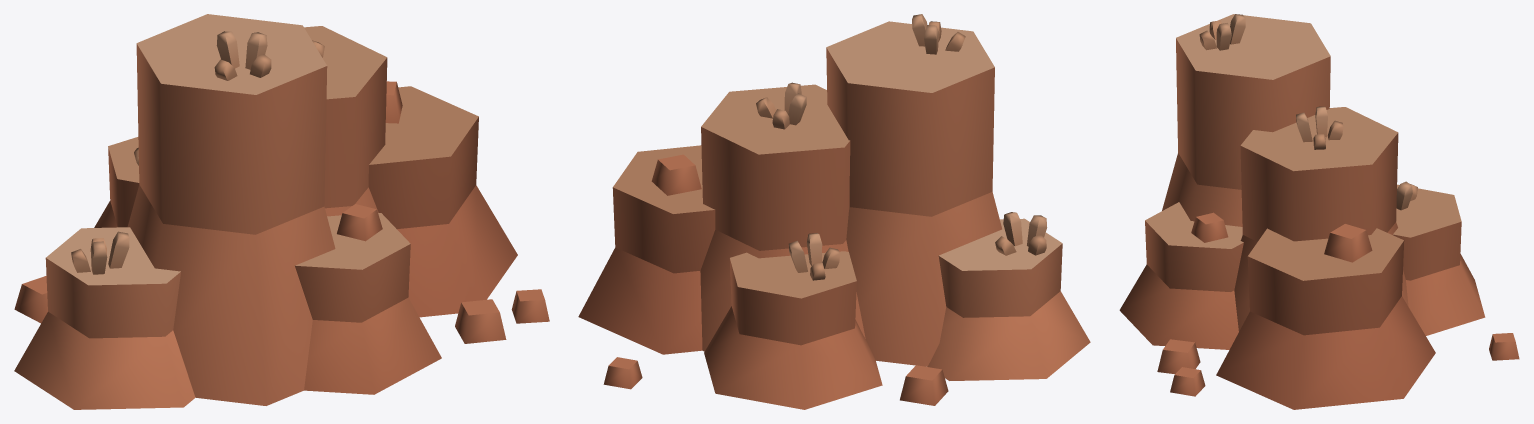
File: rocks-sand-a.glb
The picture shows the model from 3 angles, left to right: view 1: azimuth 30°, elevation 25°; view 2: azimuth 150°, elevation 25°; view 3: azimuth 270°, elevation 25°; orthographic projection. The views are drawn at different scales.
Parts seen in each view (by area): view 1: rocks-sand-a; view 2: rocks-sand-a; view 3: rocks-sand-a.
Part boxes in pixels (x1,y1,x2,y2): rocks-sand-a: (14,14,549,409); rocks-sand-a: (578,14,1090,409); rocks-sand-a: (1119,14,1519,409).
Bounding box in the file's own units: 5.11 × 3.21 × 4.39.
